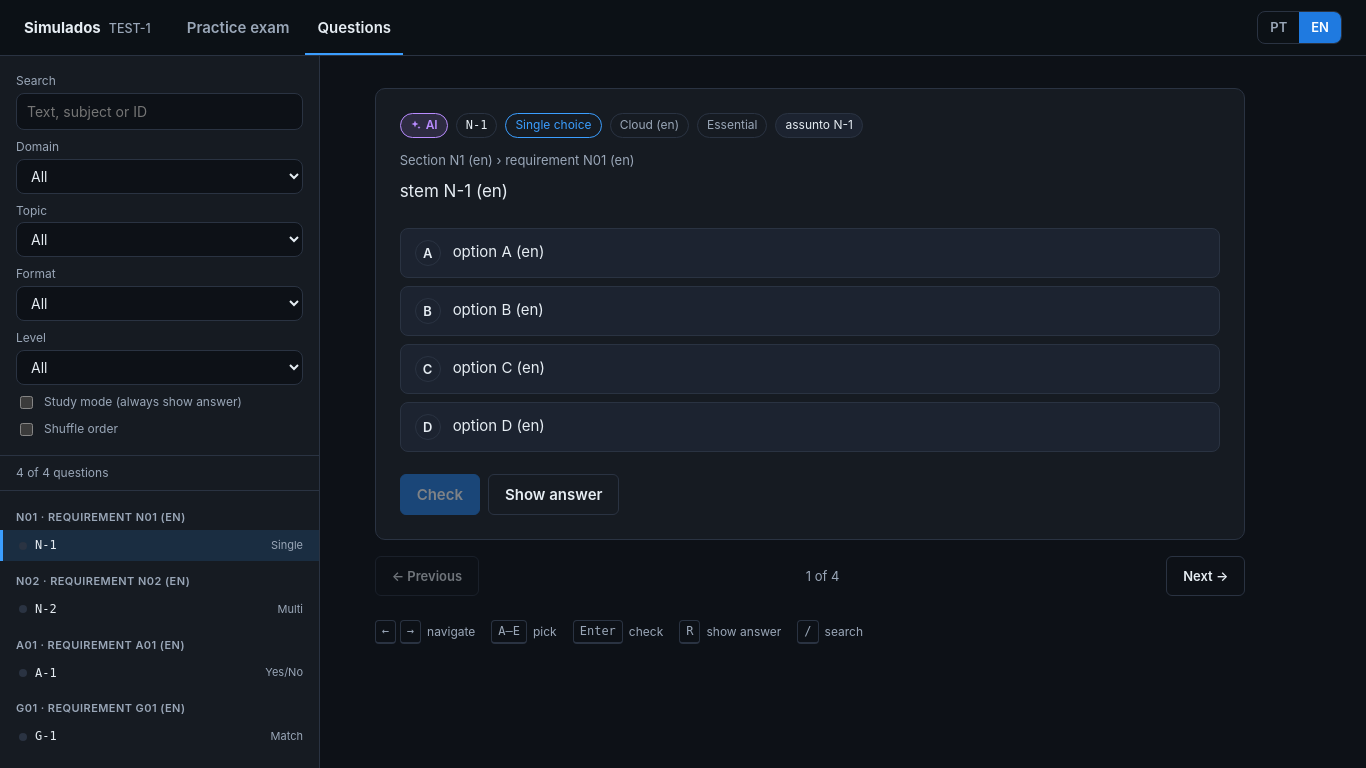
Test case: BankPage › checks an answer and records it in the list
What coordinates should you click on to do the following:
click the radio button labelled "C option C (en)"
I would click on:
 (499, 368)
Its box is x1=400 y1=344 x2=1220 y2=394.
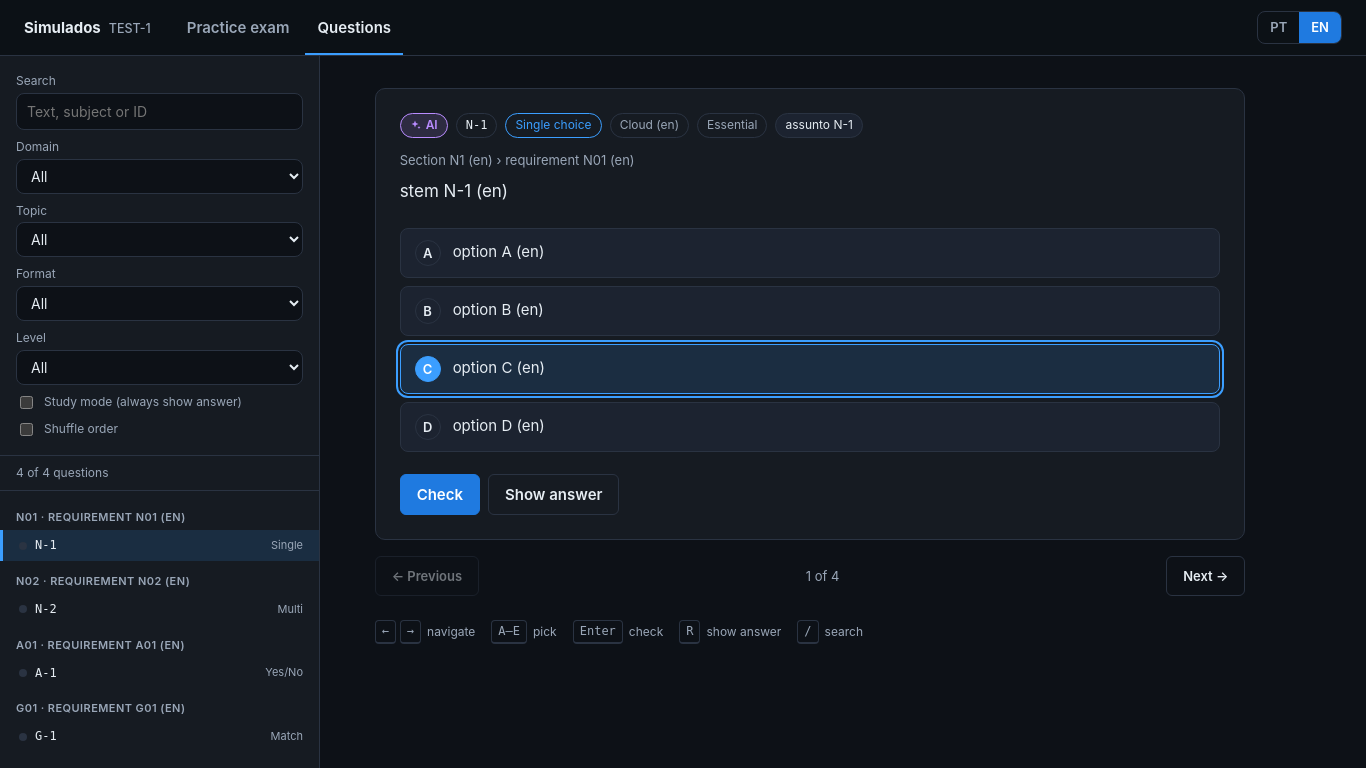
What coordinates should you click on to do the following:
click the button "Check"
I would click on:
 (440, 495)
Its box is x1=400 y1=474 x2=480 y2=515.
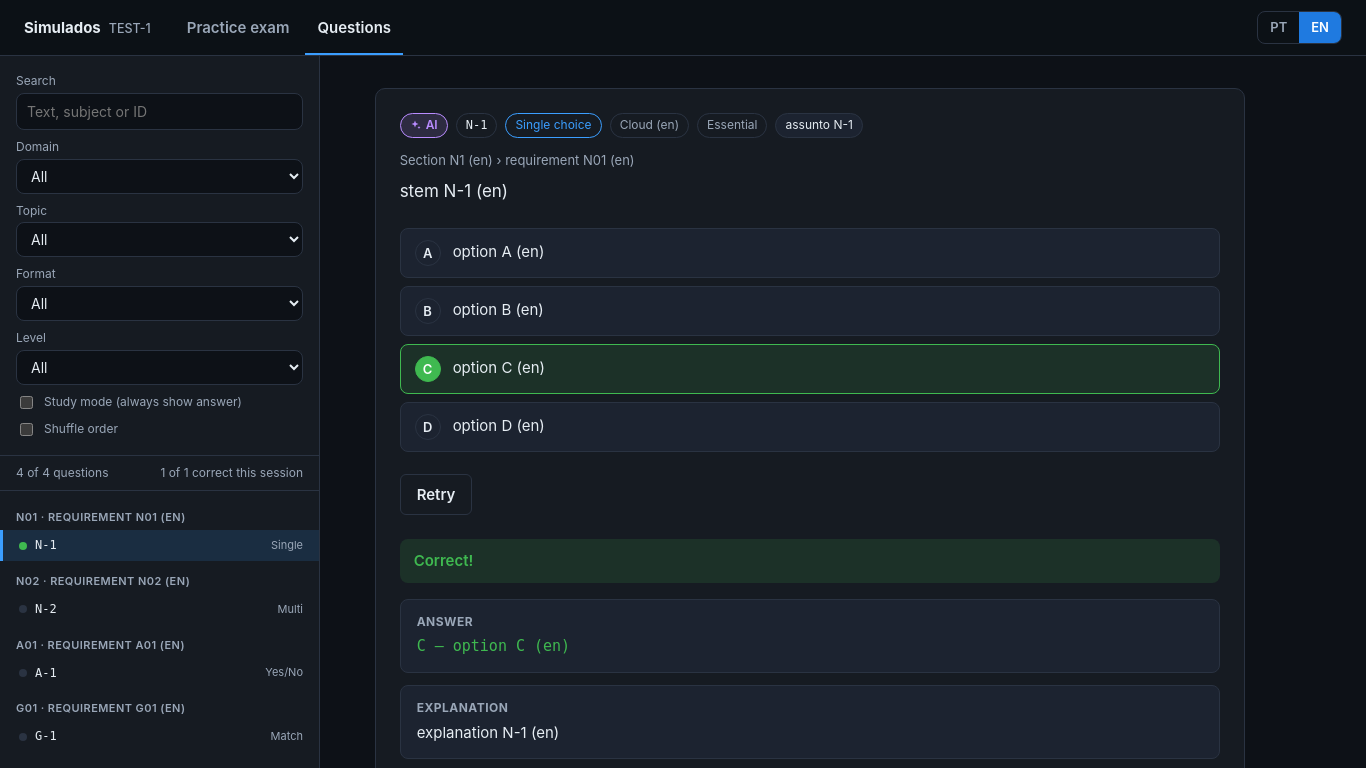
Result: the text "Correct!" is shown at x1=400 y1=539 x2=1220 y2=583
Result: the heading "Explanation" is shown at x1=417 y1=700 x2=508 y2=715
